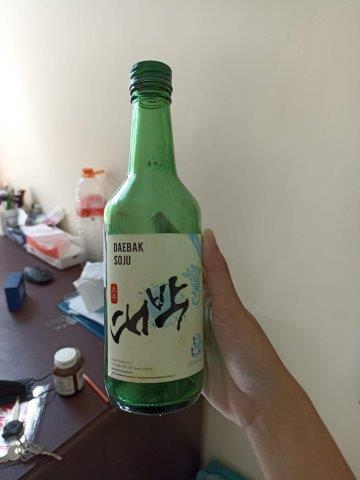botolkaca: (104, 60, 206, 418)
